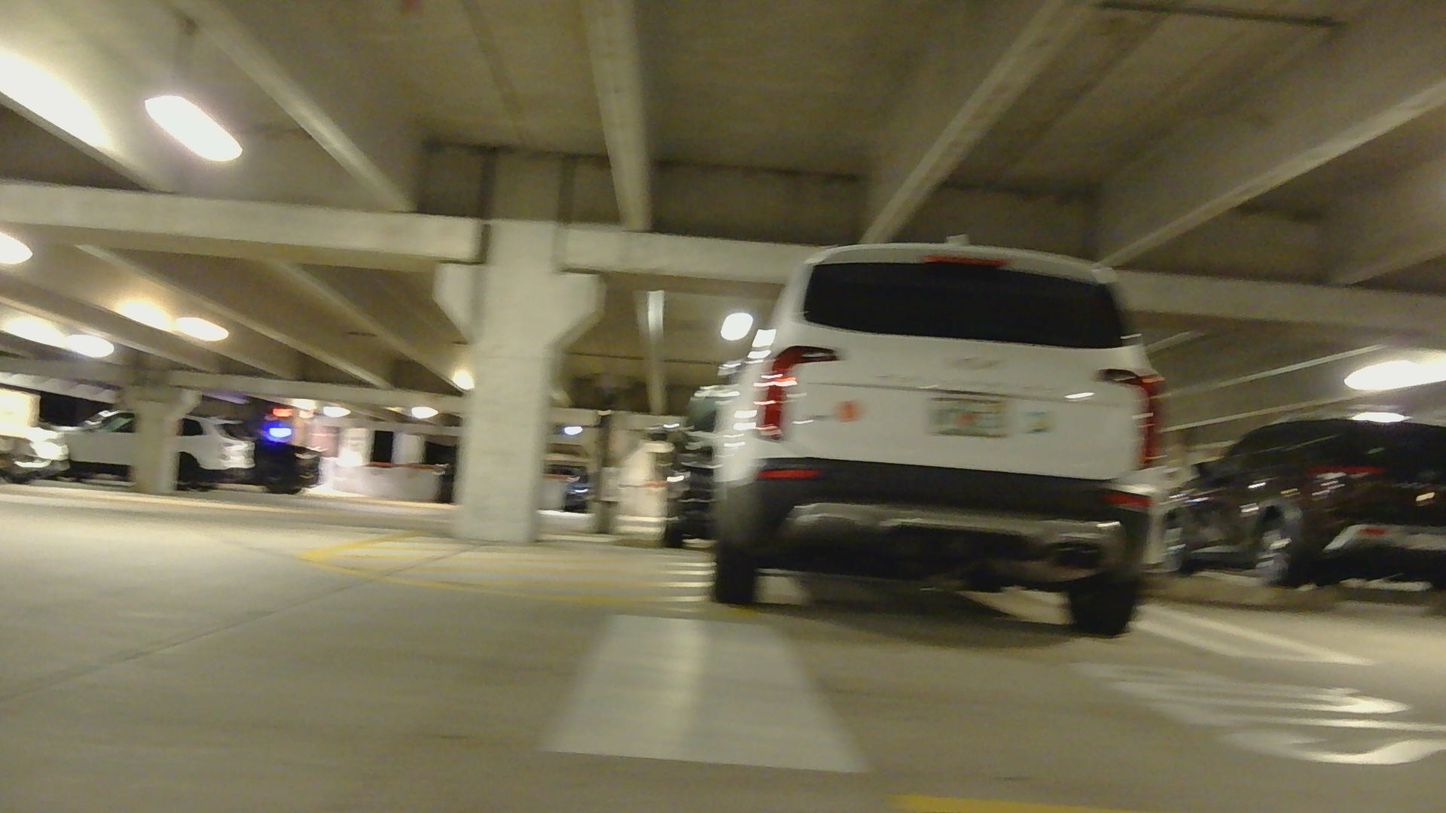empty_spot: (1152, 538, 1446, 682)
occupied_spot: (706, 224, 1176, 644)
